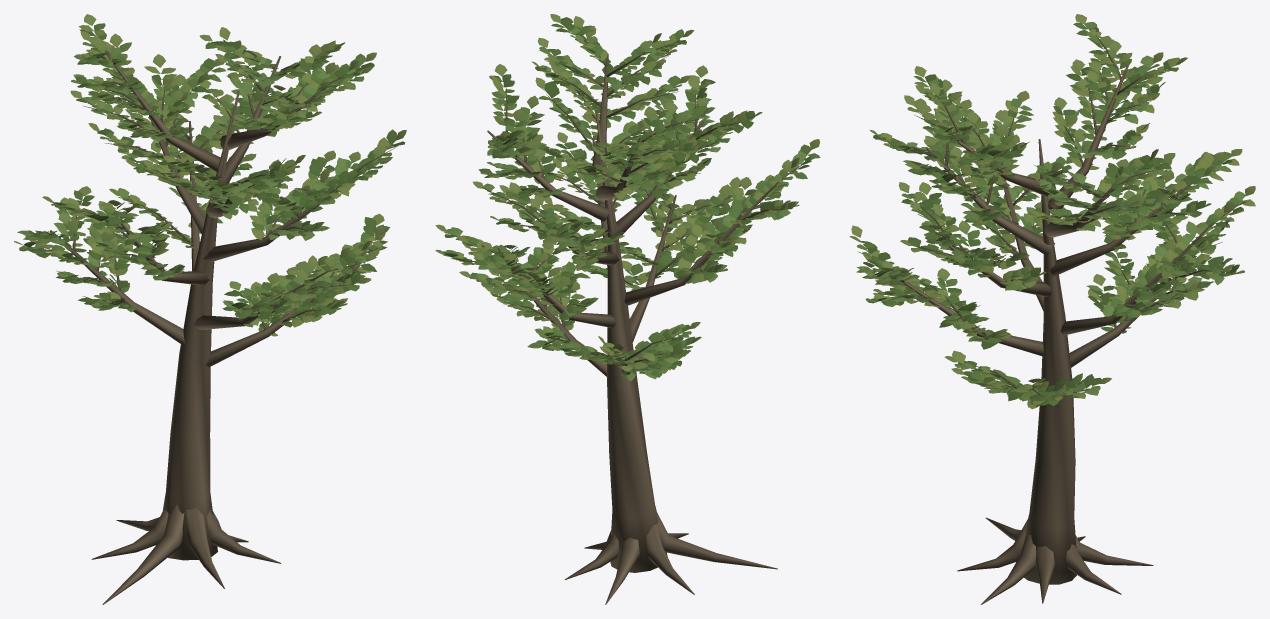
The model's file is gallery-fork.glb.
3 renders of one model, left to right at view 1: azimuth 30°, elevation 25°; view 2: azimuth 150°, elevation 25°; view 3: azimuth 270°, elevation 25°, orthographic. The views are drawn at different scales.
Parts seen in each view (by area): view 1: LAND02 gallery-fork; view 2: LAND02 gallery-fork; view 3: LAND02 gallery-fork.
Part boxes in pixels (box(x1,y1,x2,y2)): LAND02 gallery-fork: box(14, 14, 406, 604); LAND02 gallery-fork: box(435, 14, 820, 604); LAND02 gallery-fork: box(849, 14, 1255, 604).
Bounding box in the file's own units: 10.49 × 14.16 × 10.15.
